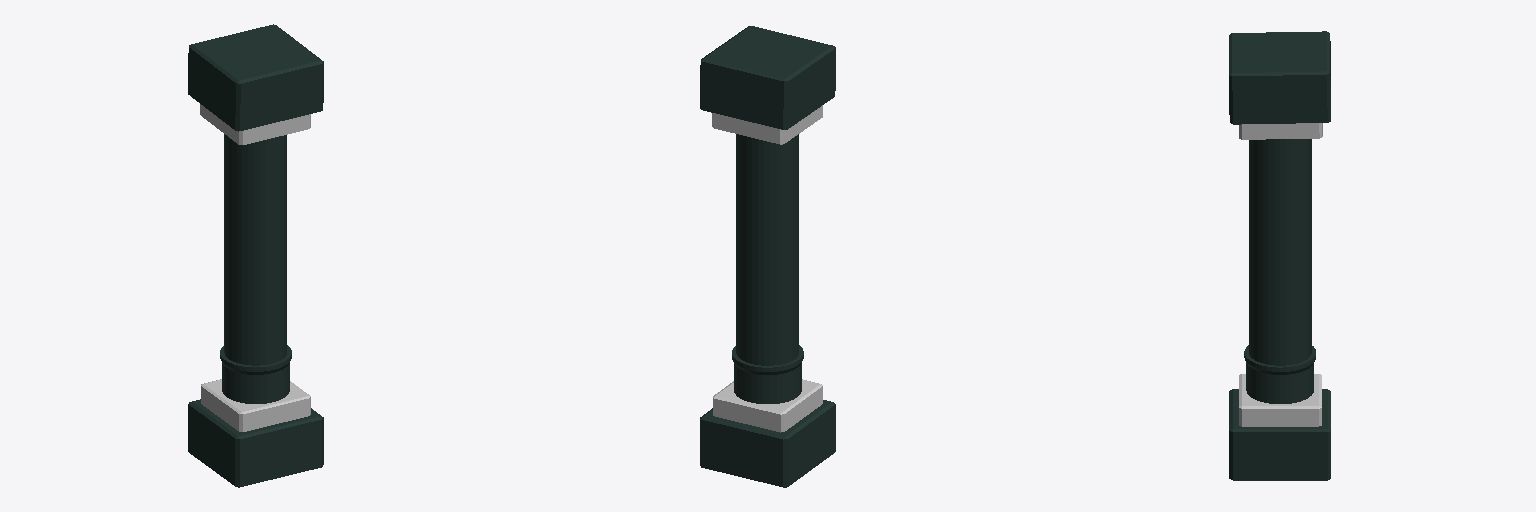
Rendered from pillar1A(F266).obj.
3 renders of one model, left to right at view 1: azimuth 30°, elevation 25°; view 2: azimuth 150°, elevation 25°; view 3: azimuth 270°, elevation 25°, orthographic.
Visible parts, largest first — view 1: Cylinder, Cube.002, Cube, Cube.001, Cube.003; view 2: Cylinder, Cube.002, Cube, Cube.001, Cube.003; view 3: Cylinder, Cube.002, Cube, Cube.001, Cube.003.
Boxes of the visible parts, x1=… form: Cylinder: x1=220, y1=134, x2=291, y2=403; Cube.002: x1=188, y1=24, x2=323, y2=131; Cube: x1=188, y1=399, x2=323, y2=487; Cube.001: x1=201, y1=379, x2=310, y2=431; Cube.003: x1=200, y1=104, x2=310, y2=144; Cylinder: x1=732, y1=134, x2=803, y2=403; Cube.002: x1=700, y1=26, x2=835, y2=129; Cube: x1=700, y1=400, x2=835, y2=487; Cube.001: x1=713, y1=379, x2=822, y2=432; Cube.003: x1=712, y1=105, x2=822, y2=144; Cylinder: x1=1244, y1=139, x2=1315, y2=403; Cube.002: x1=1229, y1=31, x2=1330, y2=124; Cube: x1=1229, y1=389, x2=1330, y2=480; Cube.001: x1=1239, y1=374, x2=1321, y2=426; Cube.003: x1=1239, y1=123, x2=1322, y2=139.
Bounding box in the file's own units: 1.03 × 4.59 × 1.04.